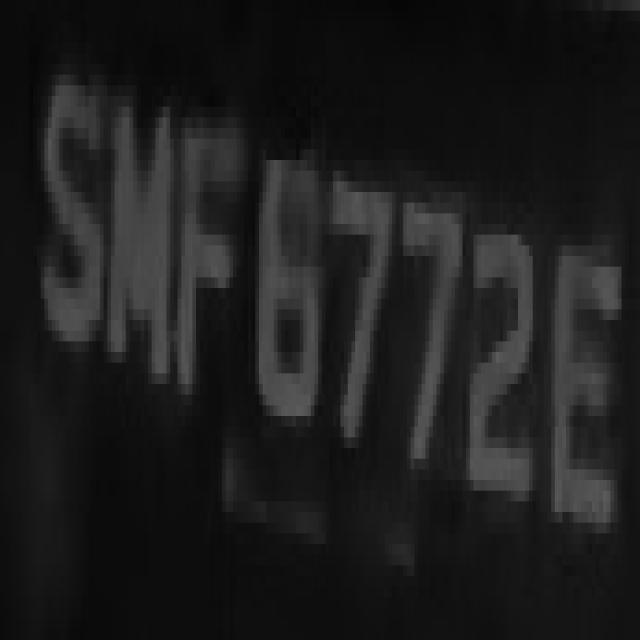2: (455, 214, 536, 534)
6: (252, 118, 329, 470)
7: (374, 149, 466, 502), (314, 149, 385, 480)
E: (540, 202, 625, 554)
F: (178, 75, 244, 416)
M: (103, 75, 174, 416)
S: (41, 53, 104, 384)
